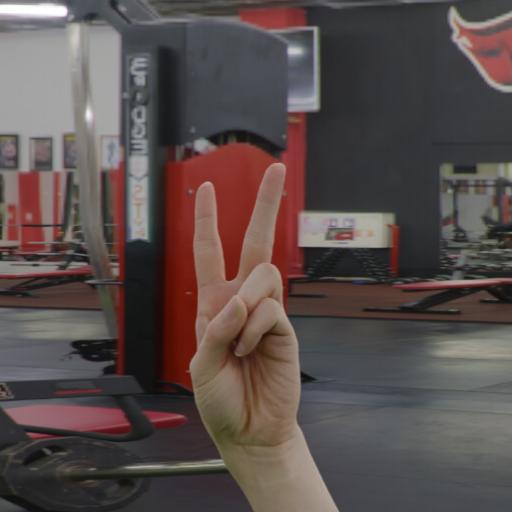V: (152, 146, 402, 512)
